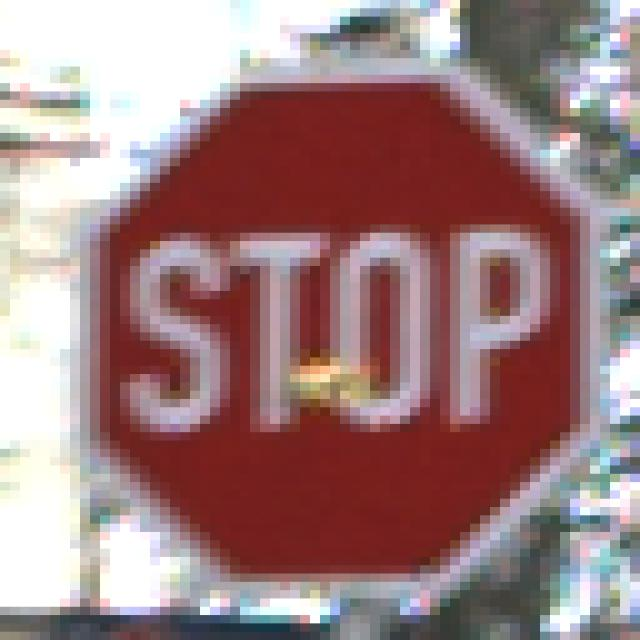STOP: (61, 59, 591, 591)
